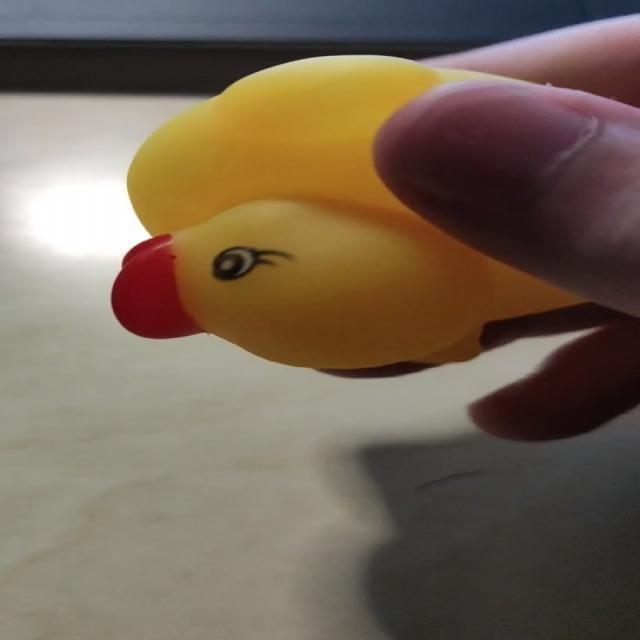rubber-duck: (111, 55, 578, 367)
